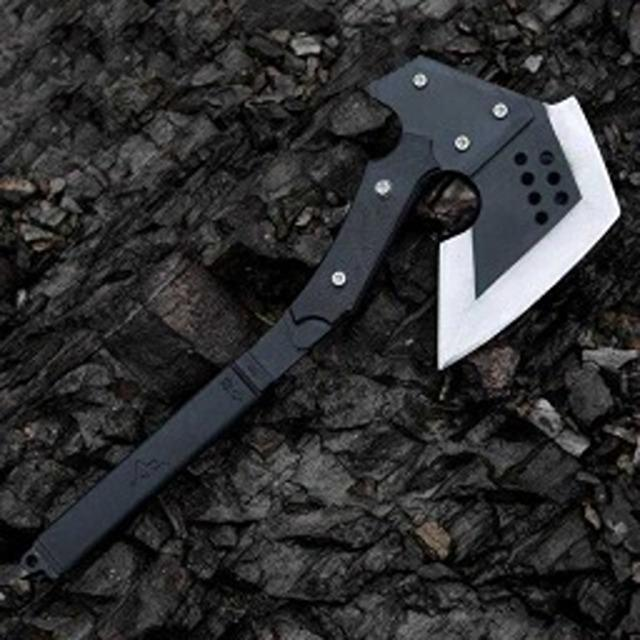ax: (2, 39, 632, 621)
